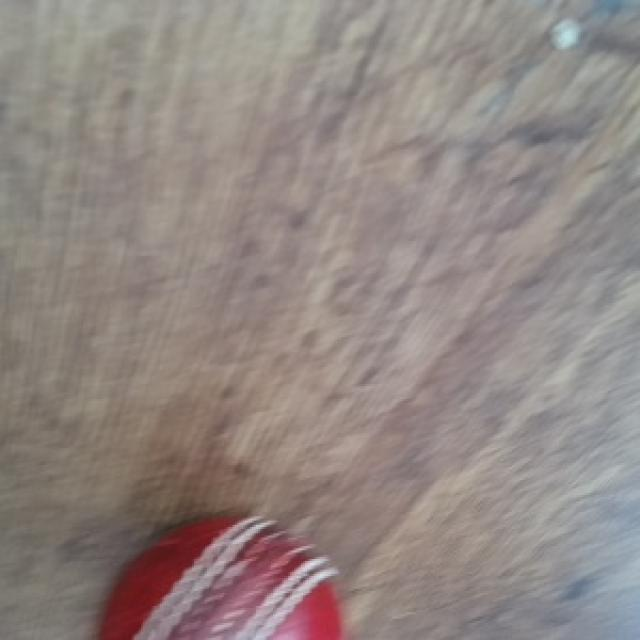ball: (94, 516, 348, 640)
